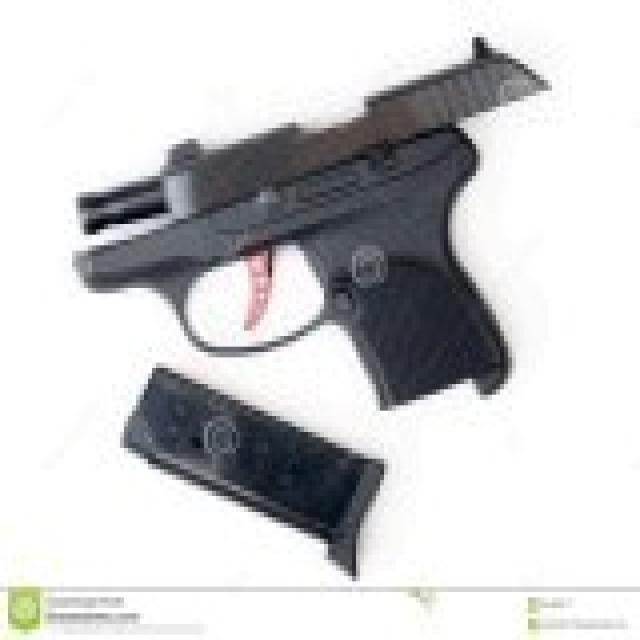Gun: (56, 73, 533, 534)
